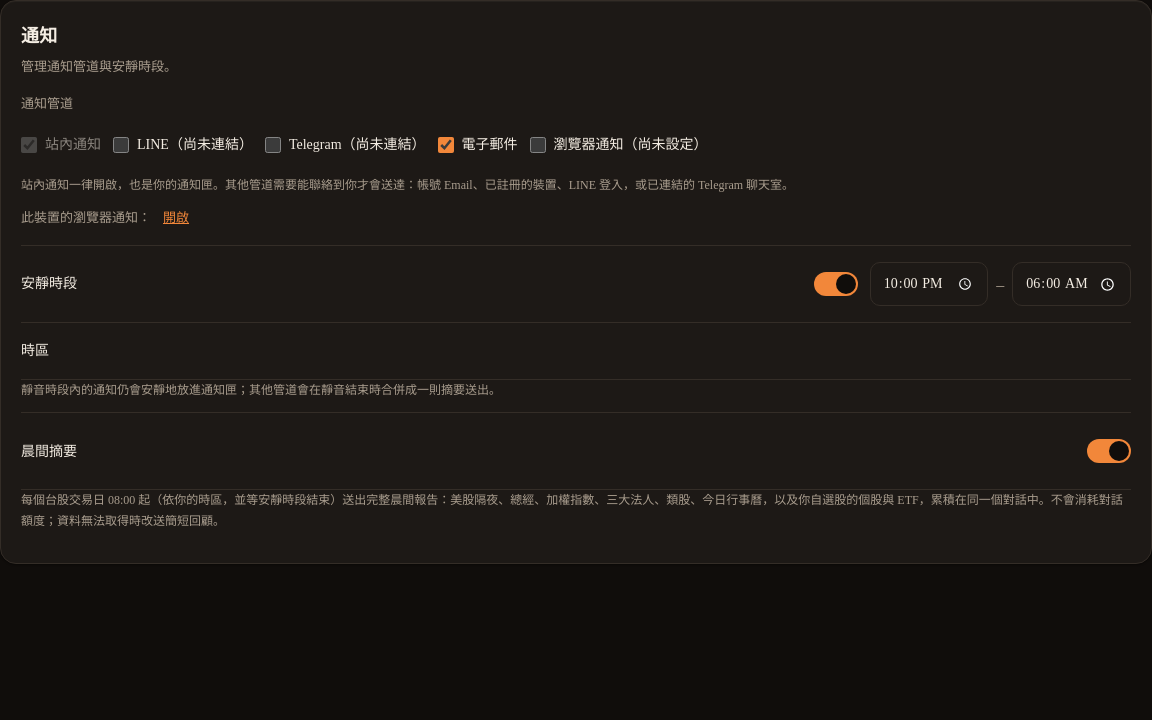
Scenario: NotificationsPanel actions › enables browser notifications with the public key
Click the button "開啟". click: (176, 218)
box: [163,207,189,229]
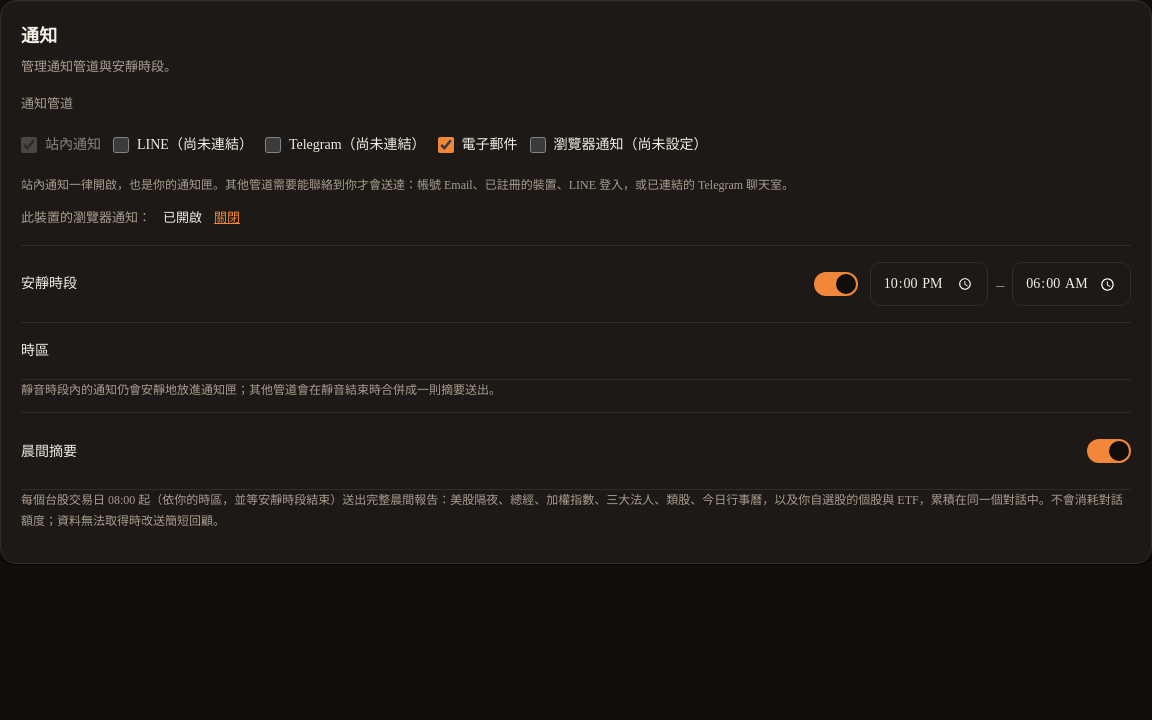
Check: the text "已開啟" is shown, box [163,207,202,229]
